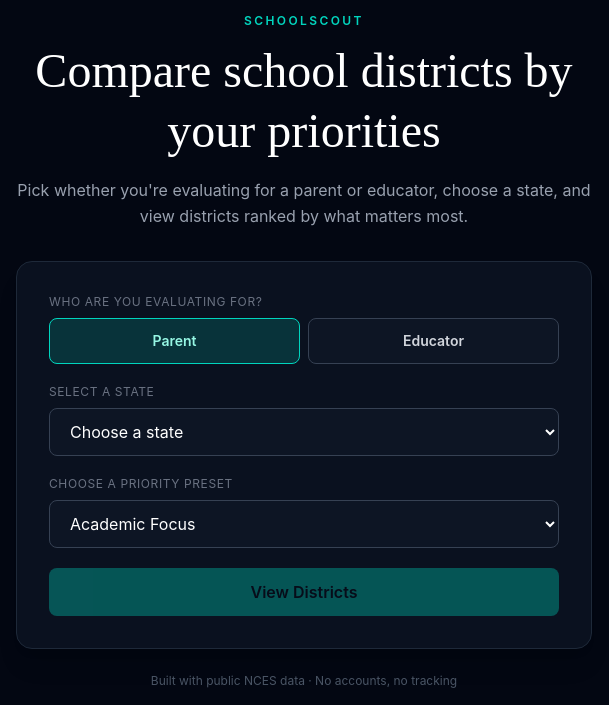
Test: HomePage › enables submit button when state is selected
Select "NY" in the dropdown labelled "Select a state" at coordinates (304, 432), box top-left (49, 408), bottom-right (559, 456)
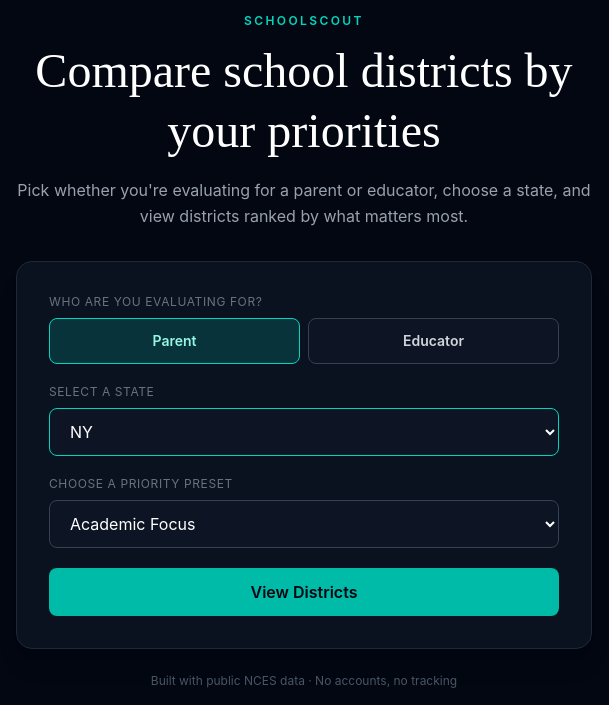
Check: the button "View Districts" is enabled, box top-left (49, 568), bottom-right (559, 616)
